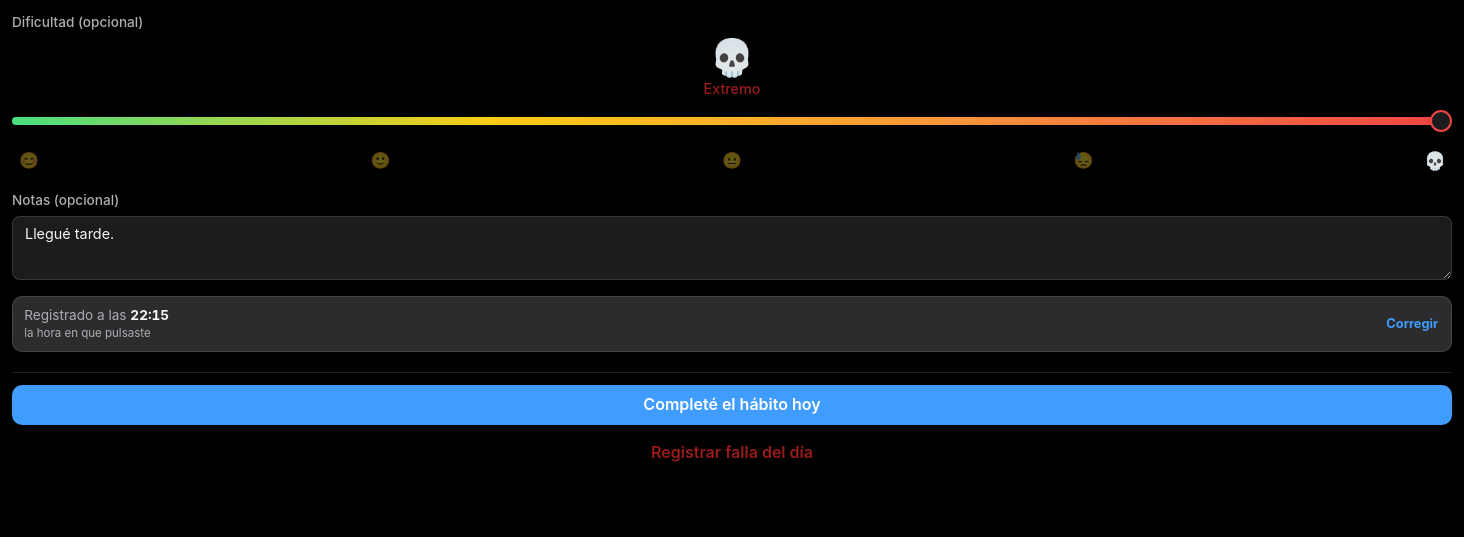
Test: HabitFollowUpForm · la línea de la hora › corregir manda un habitFollowUpEdit con la hora y nada más
The image size is (1464, 537).
Click the button "Corregir" at (1412, 324), box [1385,313,1440,335]
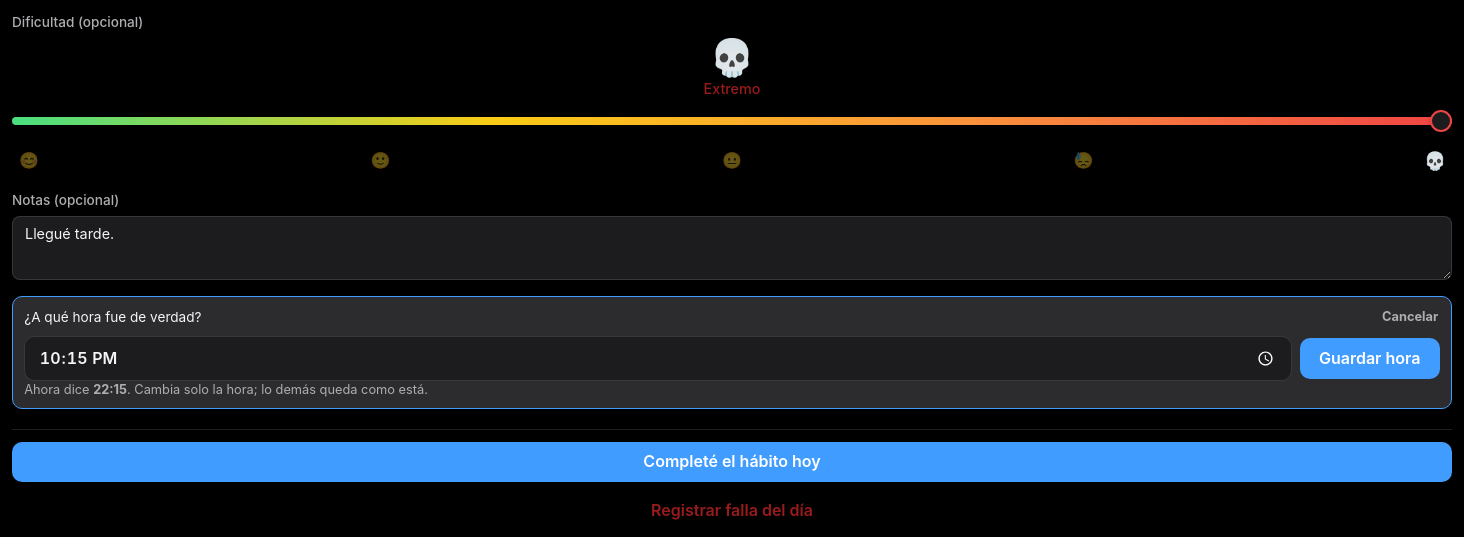
expect the time field labelled "¿A qué hora fue de verdad?" holds "22:15": met
Replace the text in the time field labelled "¿A qué hora fue de verdad?" with "21:40" at (658, 358), box [24,336,1292,381]
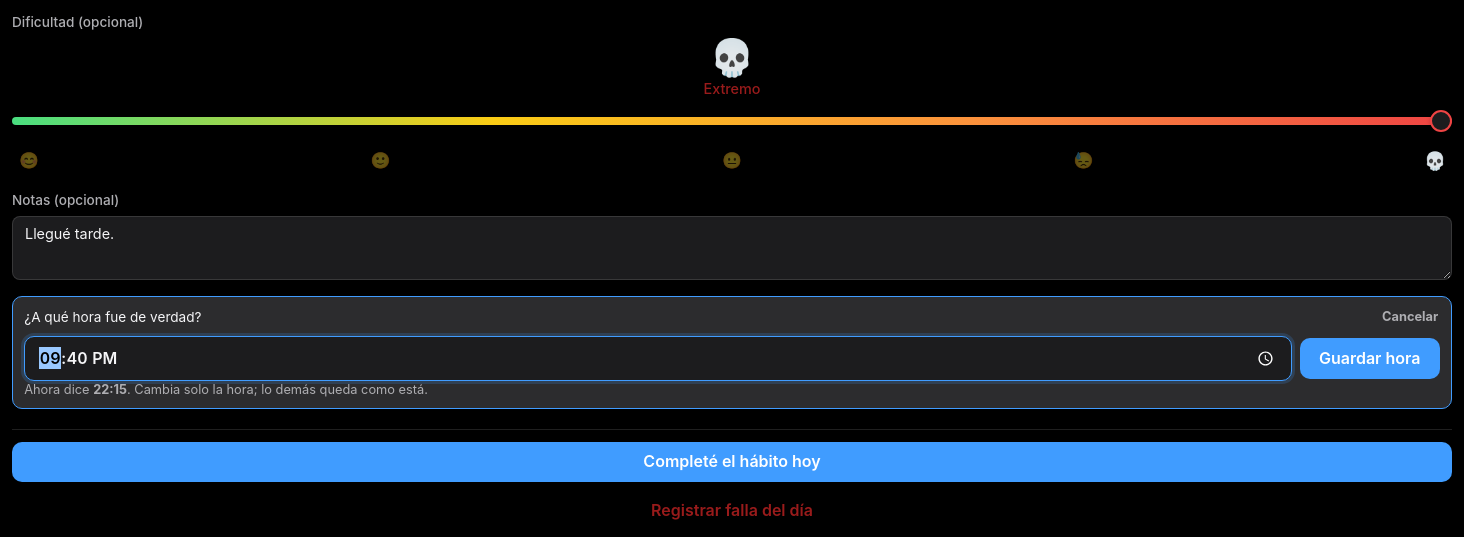
Click the button "Guardar hora" at (1370, 358), box [1300,338,1440,379]
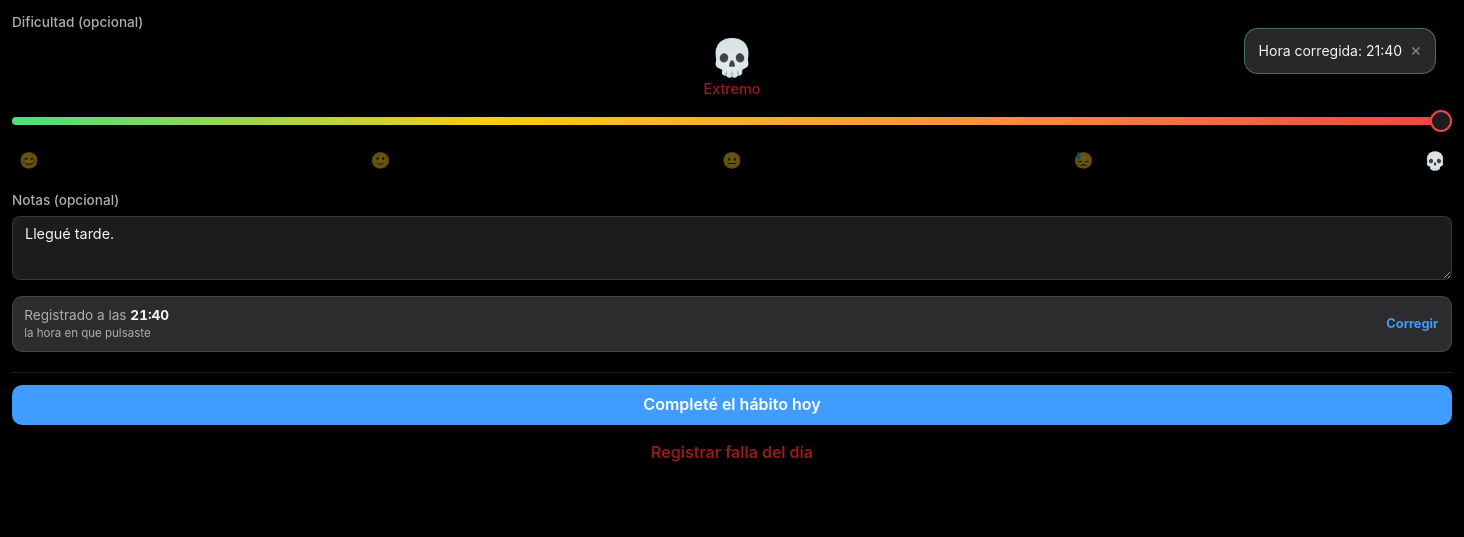
expect the text box holds "Llegué tarde.": met, box [12,216,1452,280]
expect the text "21:40" is shown: met, box [130,307,169,323]
